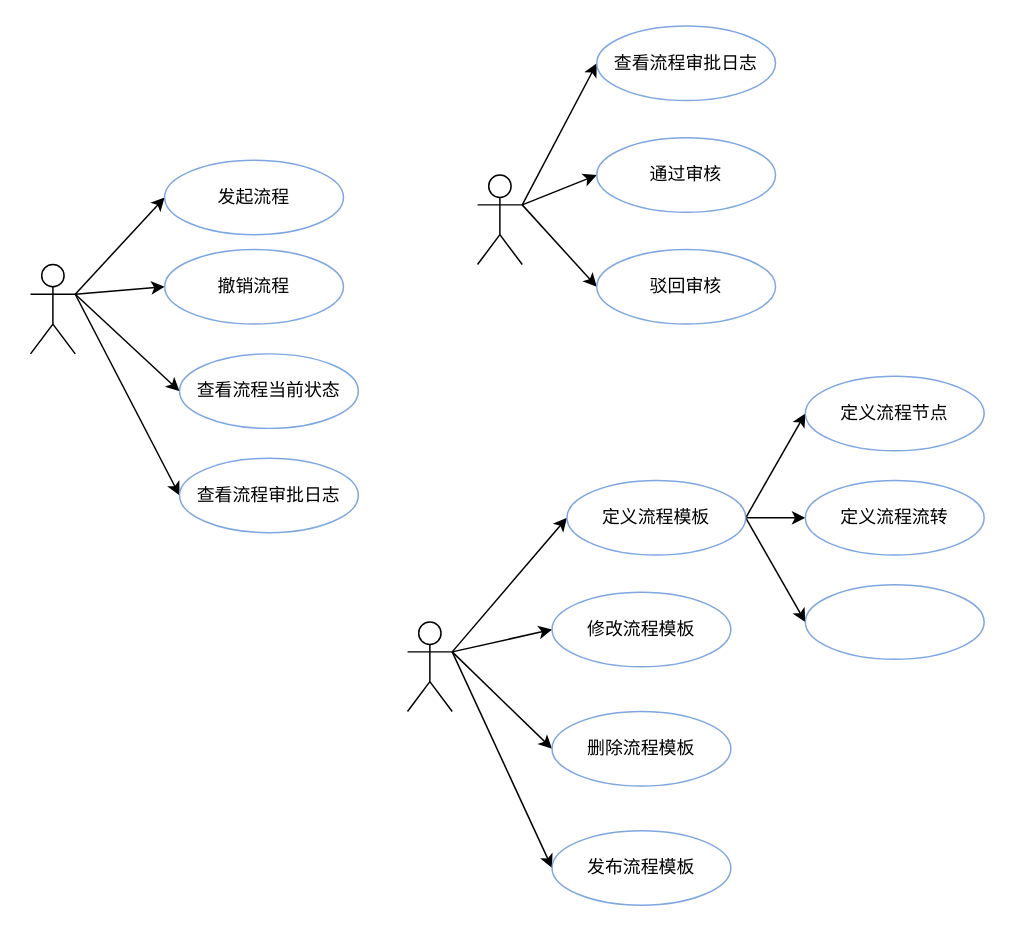
Image size: 1010x931. Some labels were removed from this diagram. The shapes that lost their labels are listed below. From the top down, each one's centre as x and y in pixels, then its label:
At [499,219]: "审批人".
At [52,308]: "申请人".
At [894,621]: "定义候选人组".
At [429,666]: "管理员".
